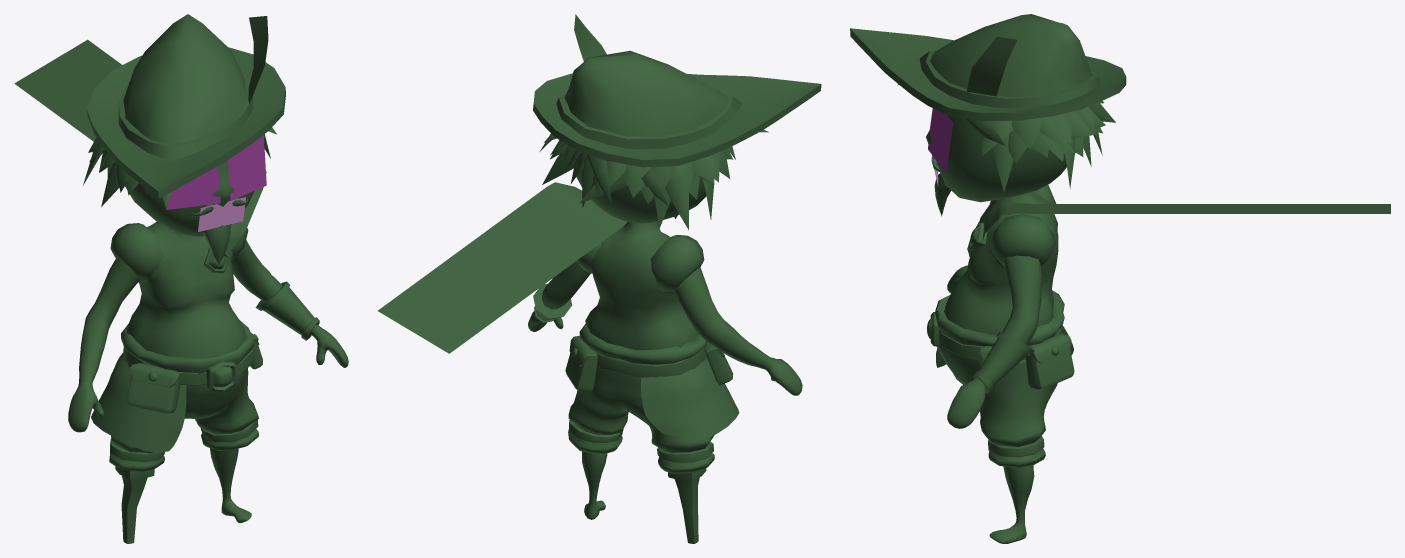
The model's file is Bard_Final.fbx.
3 renders of one model, left to right at view 1: azimuth 30°, elevation 25°; view 2: azimuth 150°, elevation 25°; view 3: azimuth 270°, elevation 25°, orthographic. The views are drawn at different scales.
Parts seen in each view (by area): view 1: Bard_Head_Living, Bard_Torso_Living, Bard_Legs_Living, Character_Eyes, Character_Mouth; view 2: Bard_Torso_Living, Bard_Head_Living, Bard_Legs_Living; view 3: Bard_Head_Living, Bard_Torso_Living, Bard_Legs_Living, Character_Eyes.
Boxes of the visible parts, bbox=[...] form: Bard_Head_Living: bbox=[83, 14, 285, 264]; Bard_Torso_Living: bbox=[14, 39, 348, 432]; Bard_Legs_Living: bbox=[91, 320, 262, 543]; Character_Eyes: bbox=[166, 135, 266, 209]; Character_Mouth: bbox=[198, 197, 246, 231]; Bard_Torso_Living: bbox=[378, 182, 802, 395]; Bard_Head_Living: bbox=[533, 14, 821, 229]; Bard_Legs_Living: bbox=[565, 324, 739, 543]; Bard_Head_Living: bbox=[850, 14, 1126, 216]; Bard_Torso_Living: bbox=[944, 185, 1390, 428]; Bard_Legs_Living: bbox=[927, 290, 1074, 543]; Character_Eyes: bbox=[928, 108, 953, 173].
Size of the model in its own units: 122 by 213 by 202.
